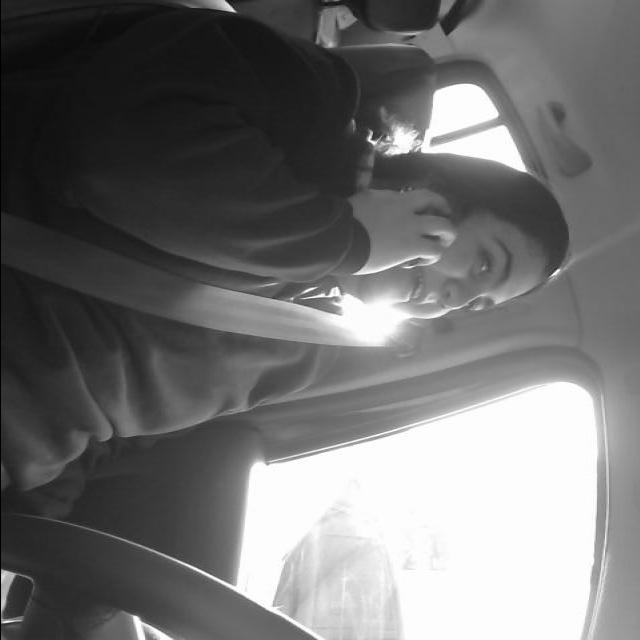mobile use: (358, 166, 478, 274)
